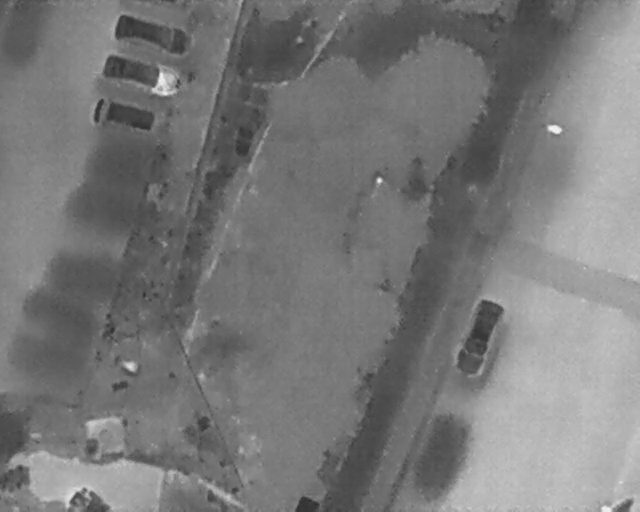Car: (450, 293, 507, 379), (101, 52, 184, 98), (111, 12, 193, 58), (88, 95, 159, 137)
